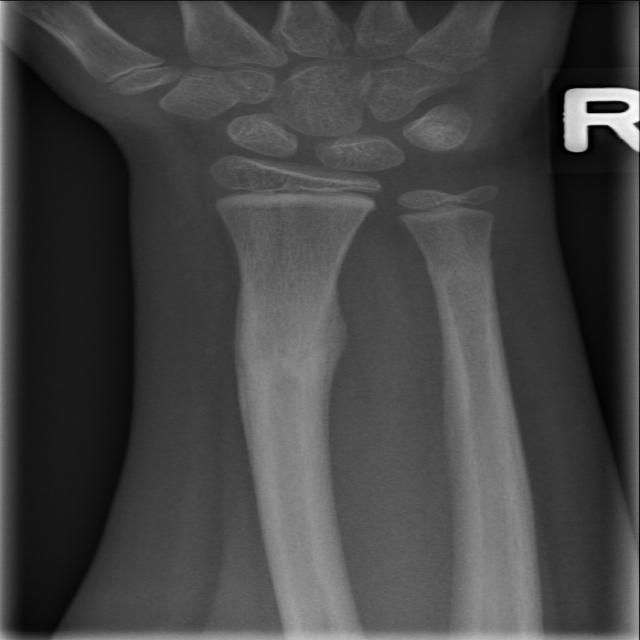radius fracture: (211, 262, 382, 434)
